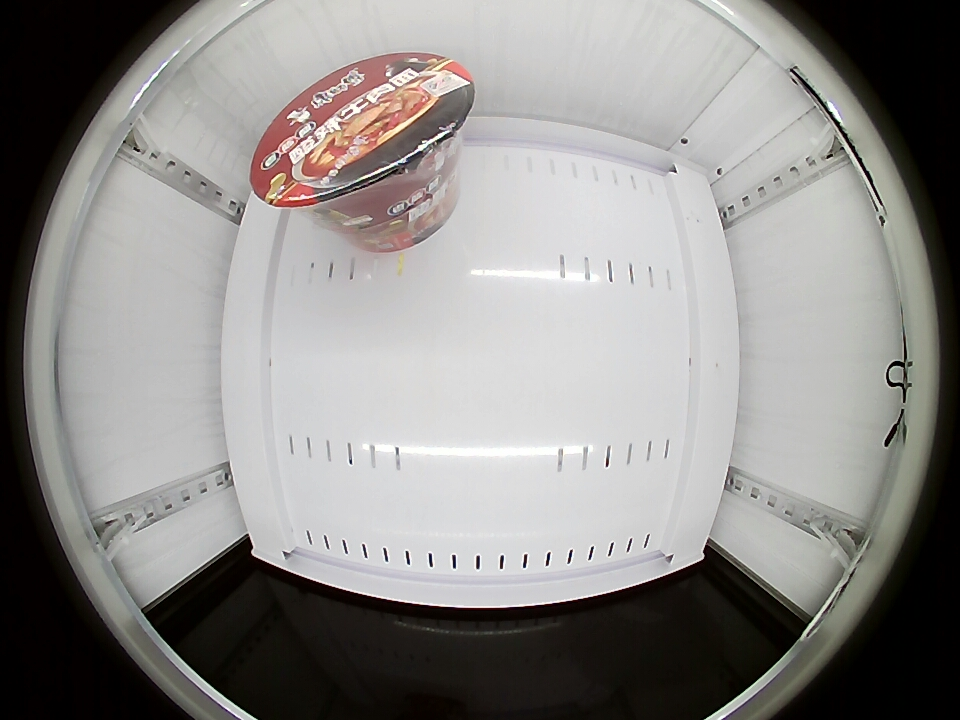suanlaniurou: (251, 53, 475, 215)
